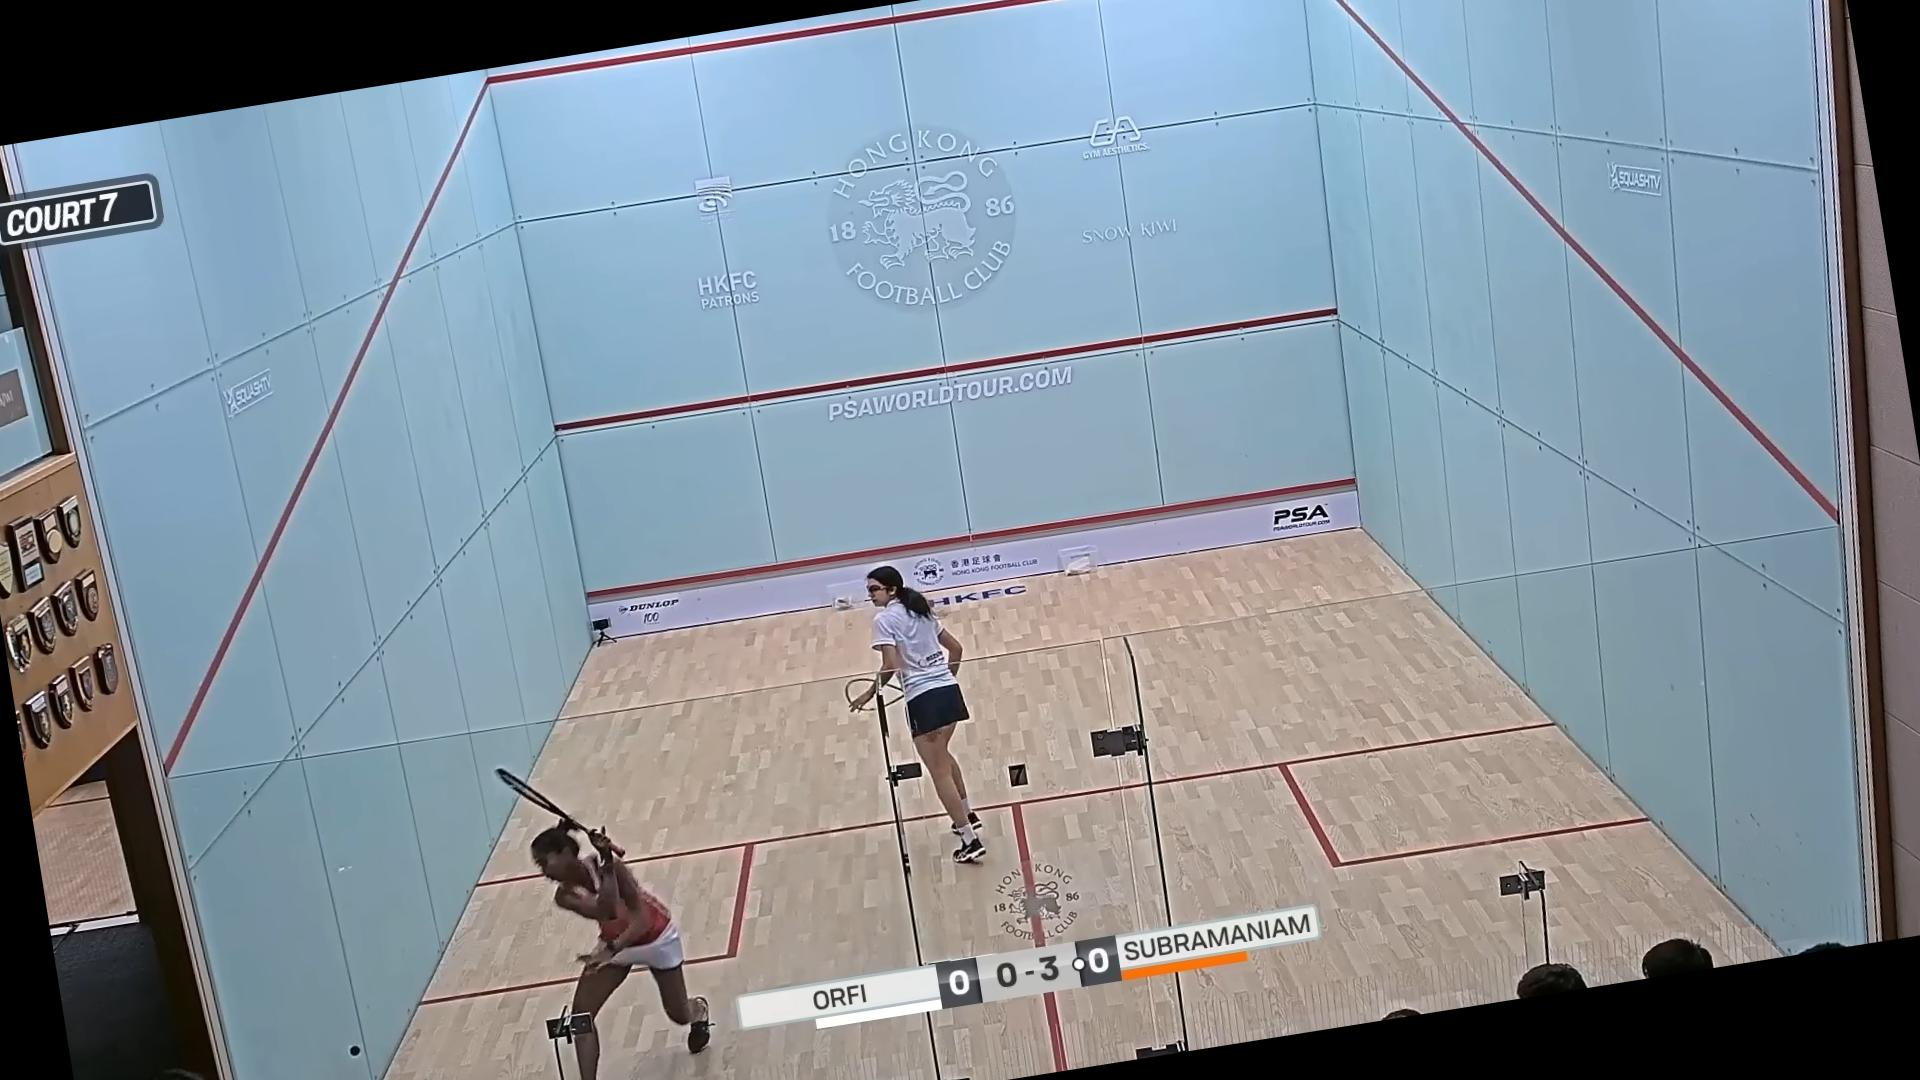Squash-Ball: (330, 1029, 377, 1077)
